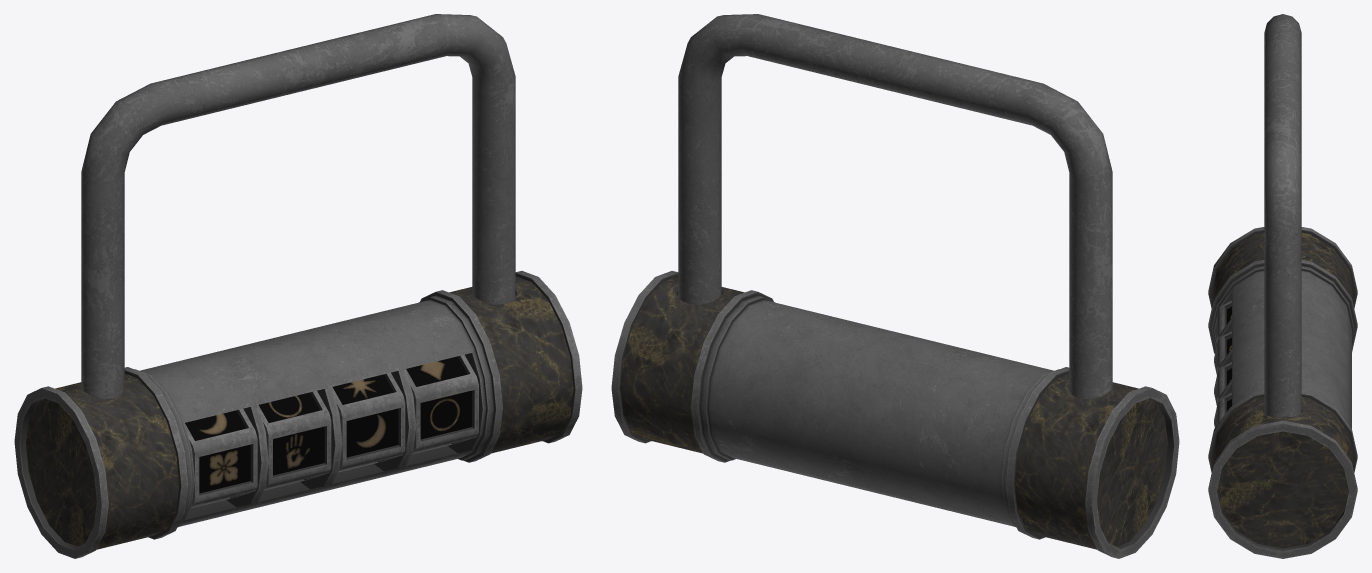
The model's file is Lock06.glb.
3 views of the same model, side by side, from view 1: azimuth 30°, elevation 25°; view 2: azimuth 150°, elevation 25°; view 3: azimuth 270°, elevation 25° (orthographic). The views are drawn at different scales.
Visible parts, largest first — view 1: Circle_013, Circle_014, Circle_017, Circle_016, Circle_015, Circle_018; view 2: Circle_013, Circle_014; view 3: Circle_013, Circle_014, Circle_015, Circle_017, Circle_016, Circle_018.
Boxes of the visible parts, box(x1,y1,x2,y2) form: Circle_013: box(14, 271, 582, 558); Circle_014: box(81, 14, 515, 399); Circle_017: box(332, 372, 405, 472); Circle_016: box(258, 390, 331, 490); Circle_015: box(184, 409, 257, 508); Circle_018: box(405, 354, 478, 454); Circle_013: box(611, 271, 1179, 558); Circle_014: box(678, 14, 1112, 399); Circle_013: box(1208, 227, 1357, 558); Circle_014: box(1264, 14, 1301, 416); Circle_015: box(1217, 300, 1231, 341); Circle_017: box(1217, 362, 1231, 403); Circle_016: box(1217, 331, 1231, 372); Circle_018: box(1217, 393, 1231, 424).
Bounding box in the file's own units: 0.1567 × 0.1384 × 0.0494.
1 material, 1 textured.
